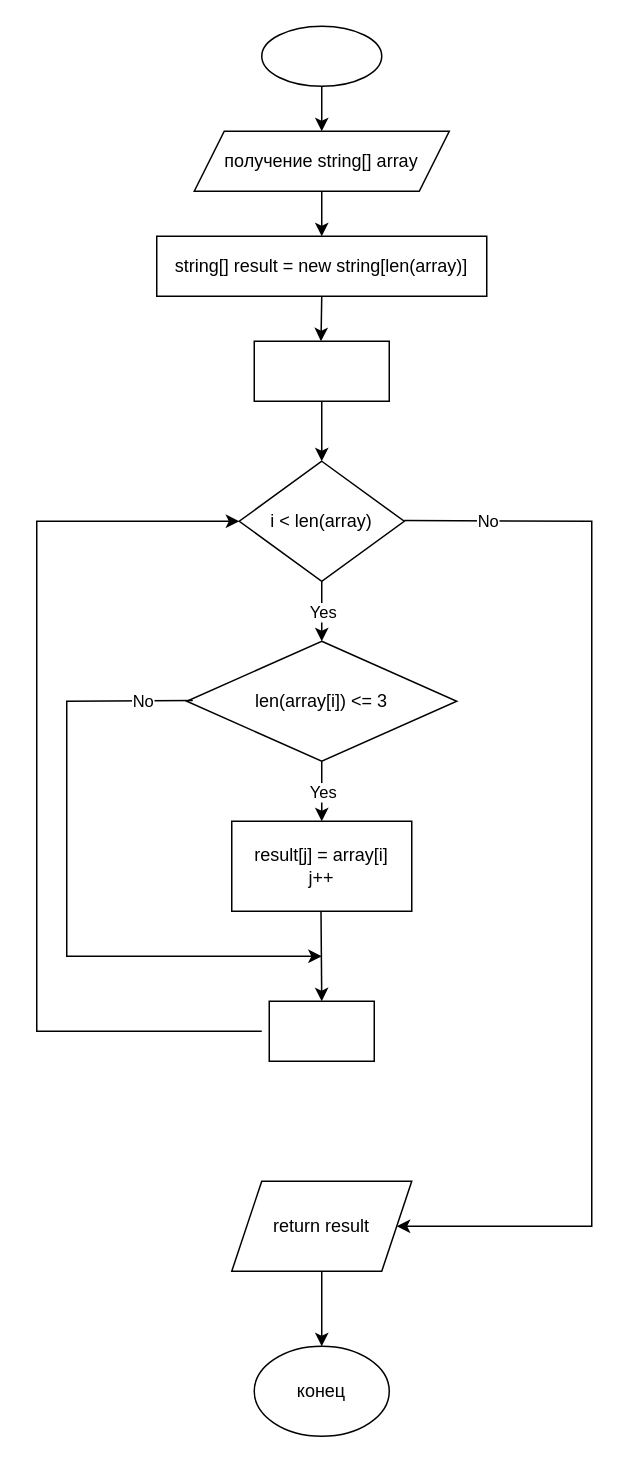
This 630x1463 diagram has some shape labels left out. The shapes that lost their labels are listed below. From the top down, each one's centre as x and y in pixels, then its label:
At point 321,55: "начало".
At point 321,370: "int i = 0 int j = 0".
At point 321,1030: "i++".
